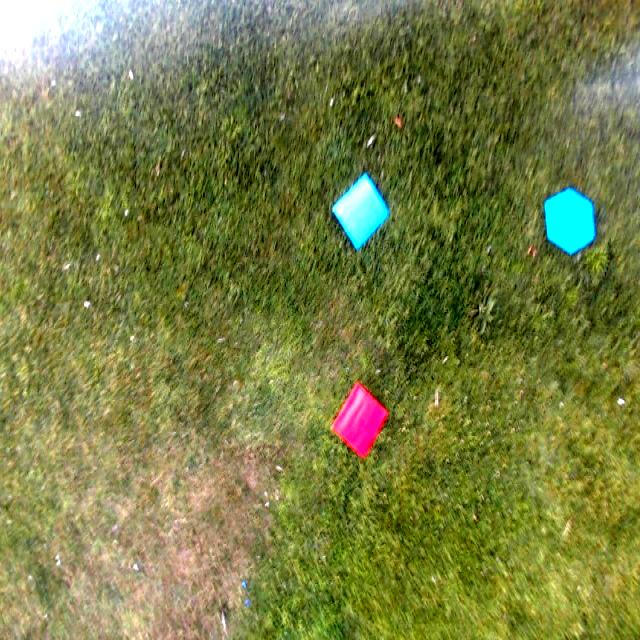blue_hexagon: (544, 187, 595, 254)
blue_square: (334, 175, 388, 248)
red_square: (331, 383, 385, 460)
